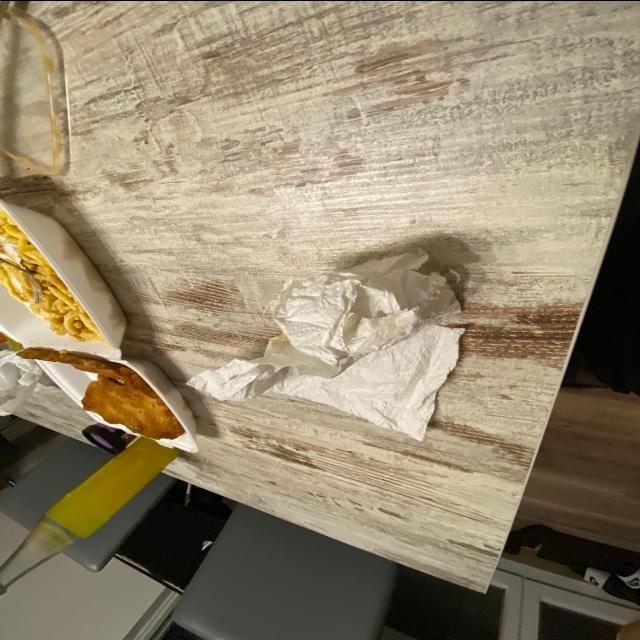organic waste: (189, 245, 468, 443)
